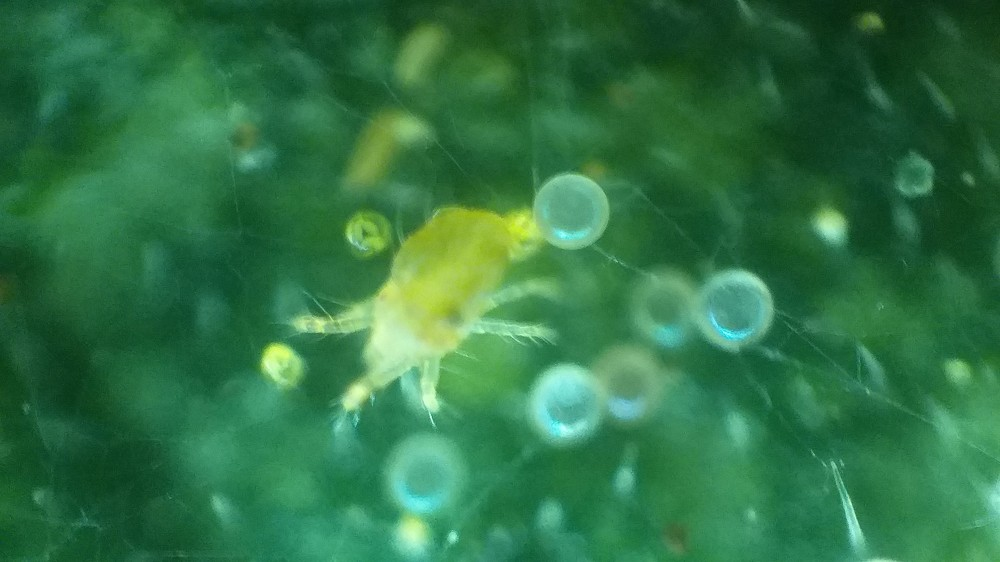Aracnido Rojo: (297, 197, 561, 446)
